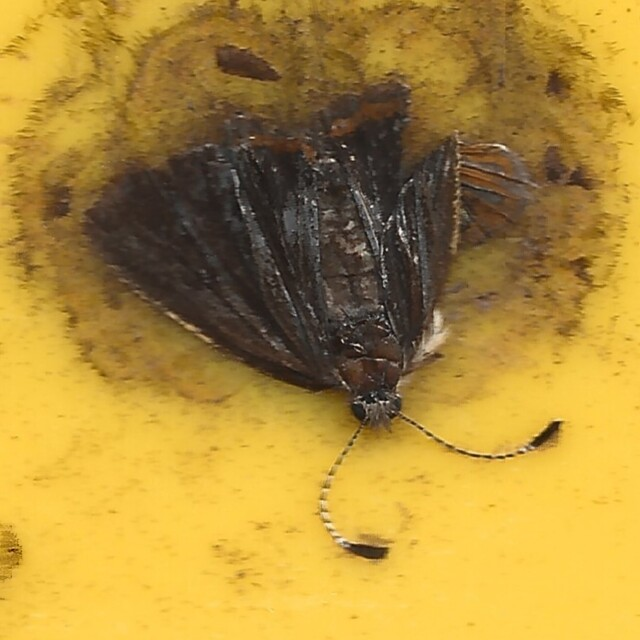Lepidoptera: (79, 76, 561, 564)
